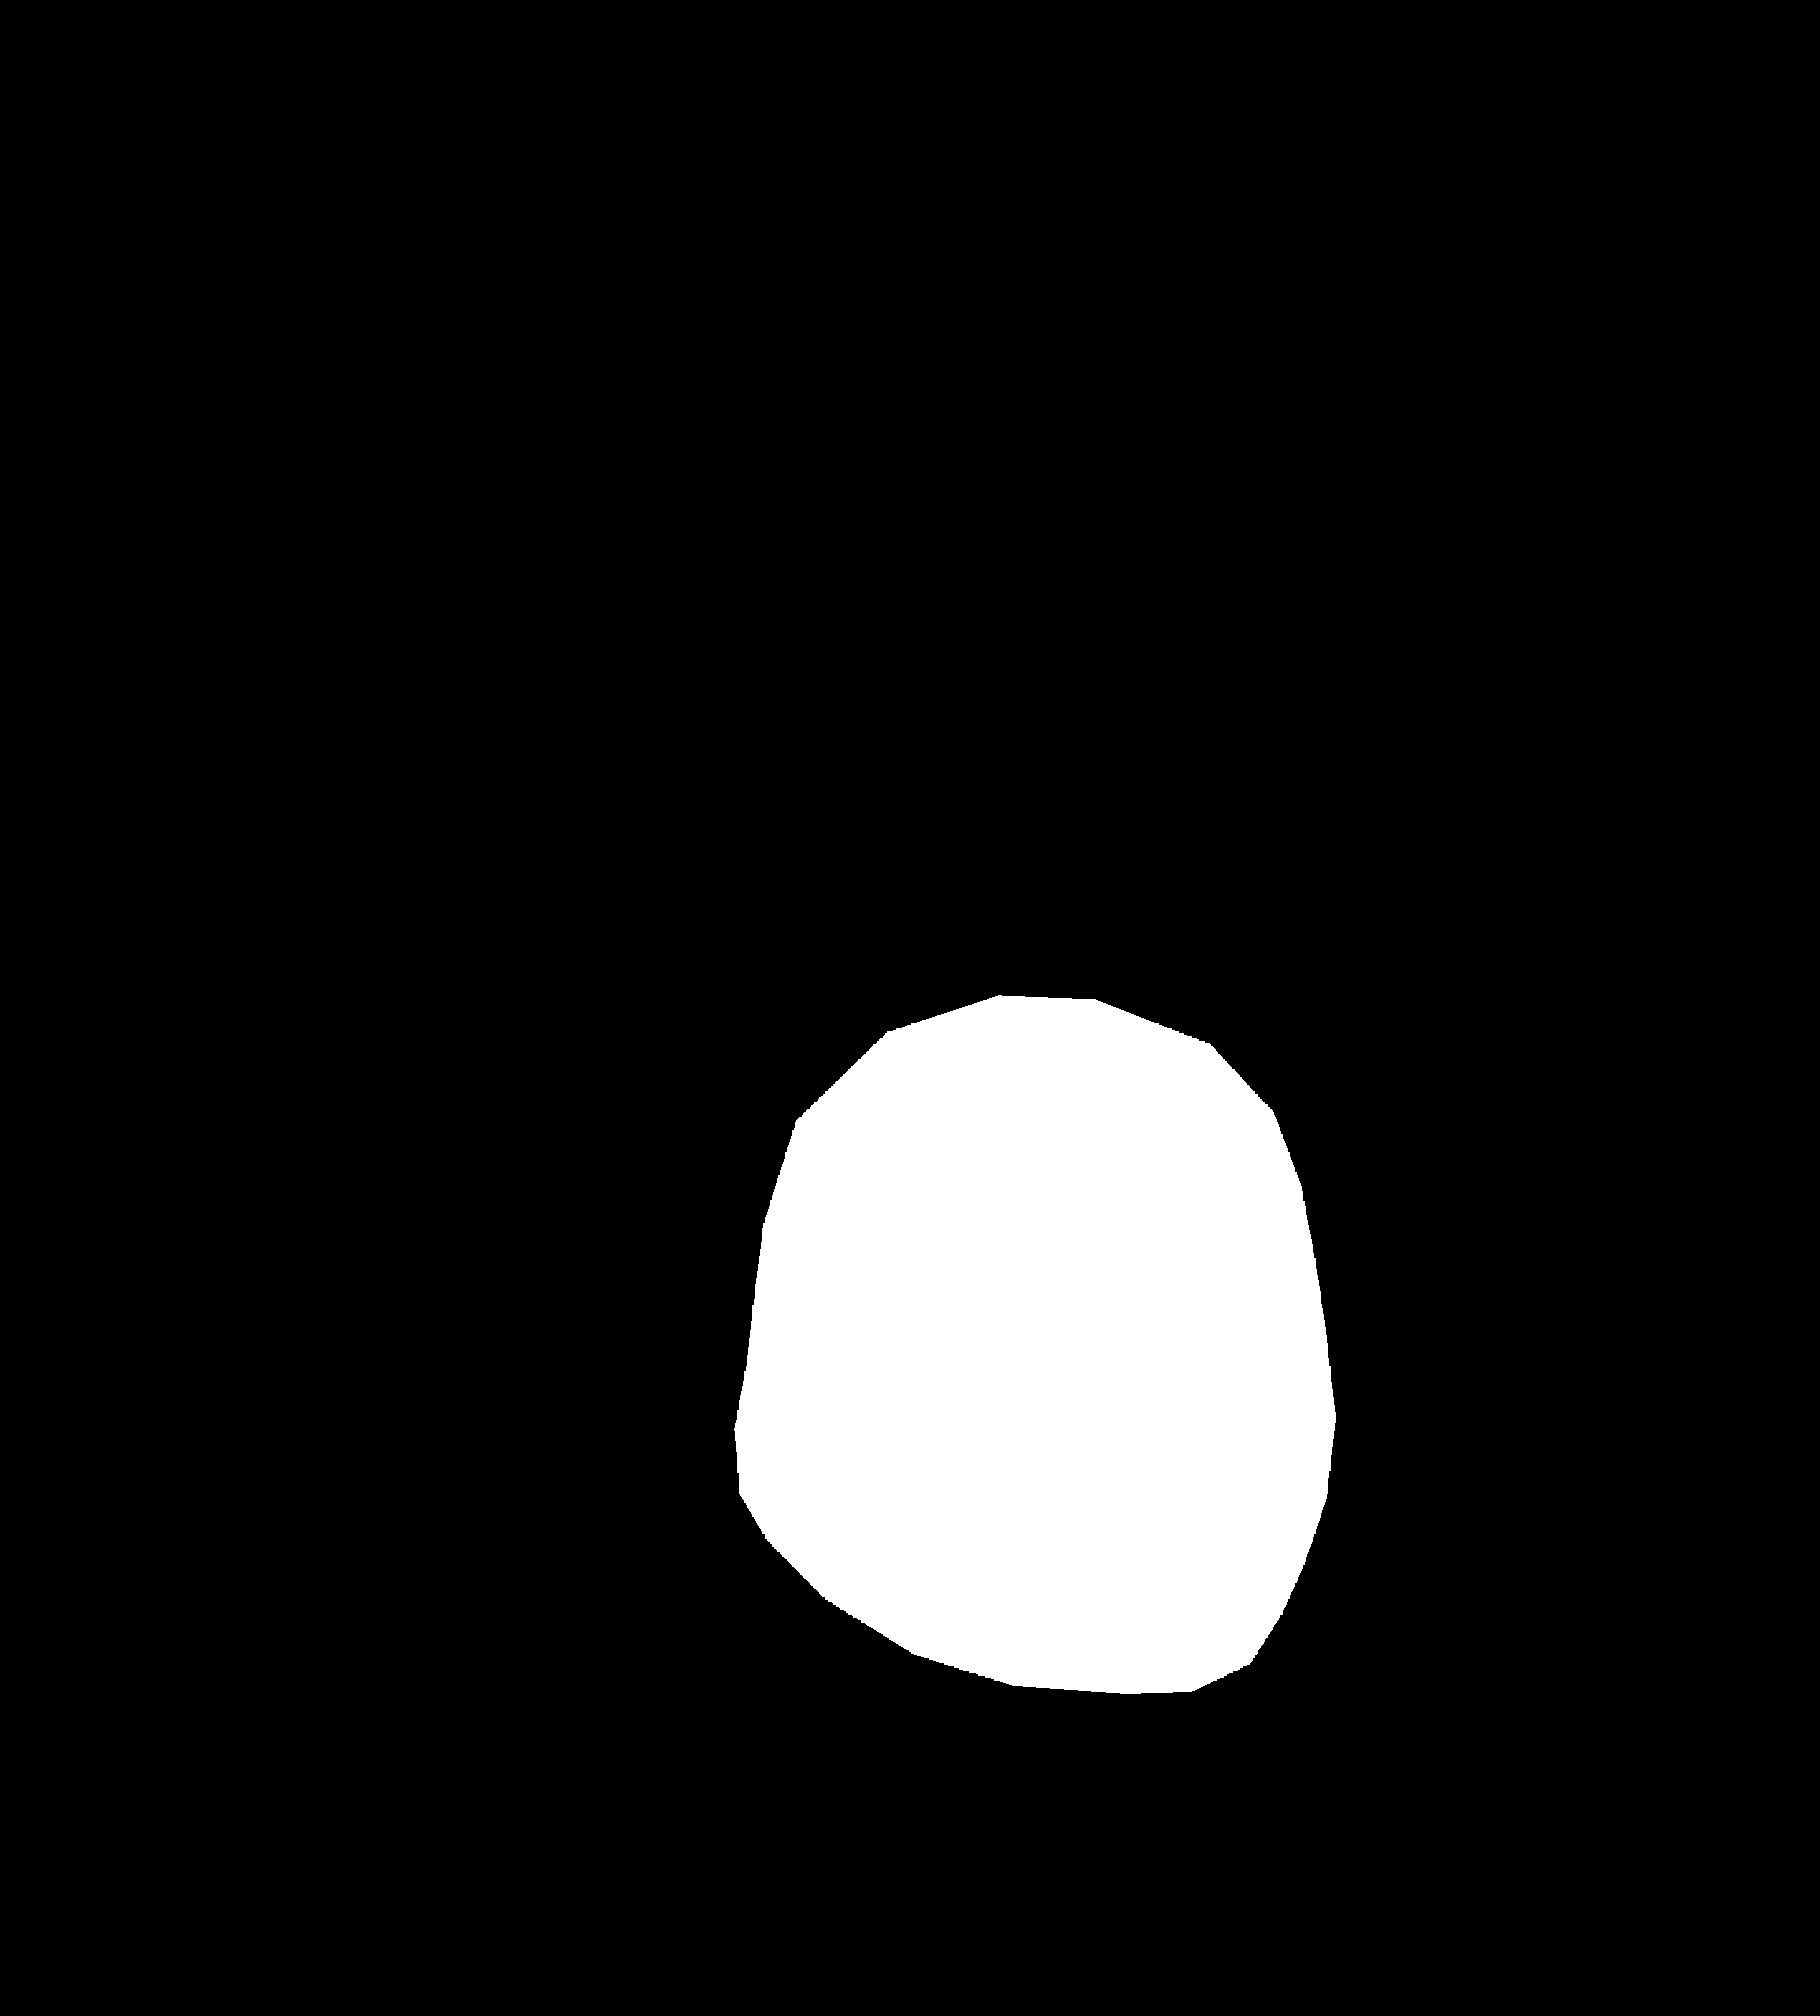heart: (734, 1136, 1334, 1709)
left_lung: (221, 284, 841, 1710)
right_lung: (995, 272, 1604, 1782)
